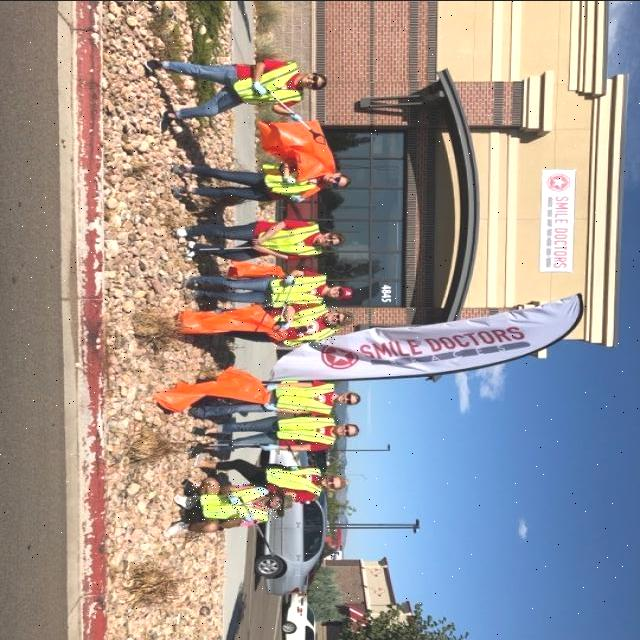Vest: (188, 481, 280, 521), (278, 379, 338, 429), (273, 304, 341, 346), (266, 268, 328, 312), (238, 68, 302, 103), (266, 466, 328, 498), (277, 410, 332, 443), (268, 224, 323, 253), (260, 168, 303, 194)
